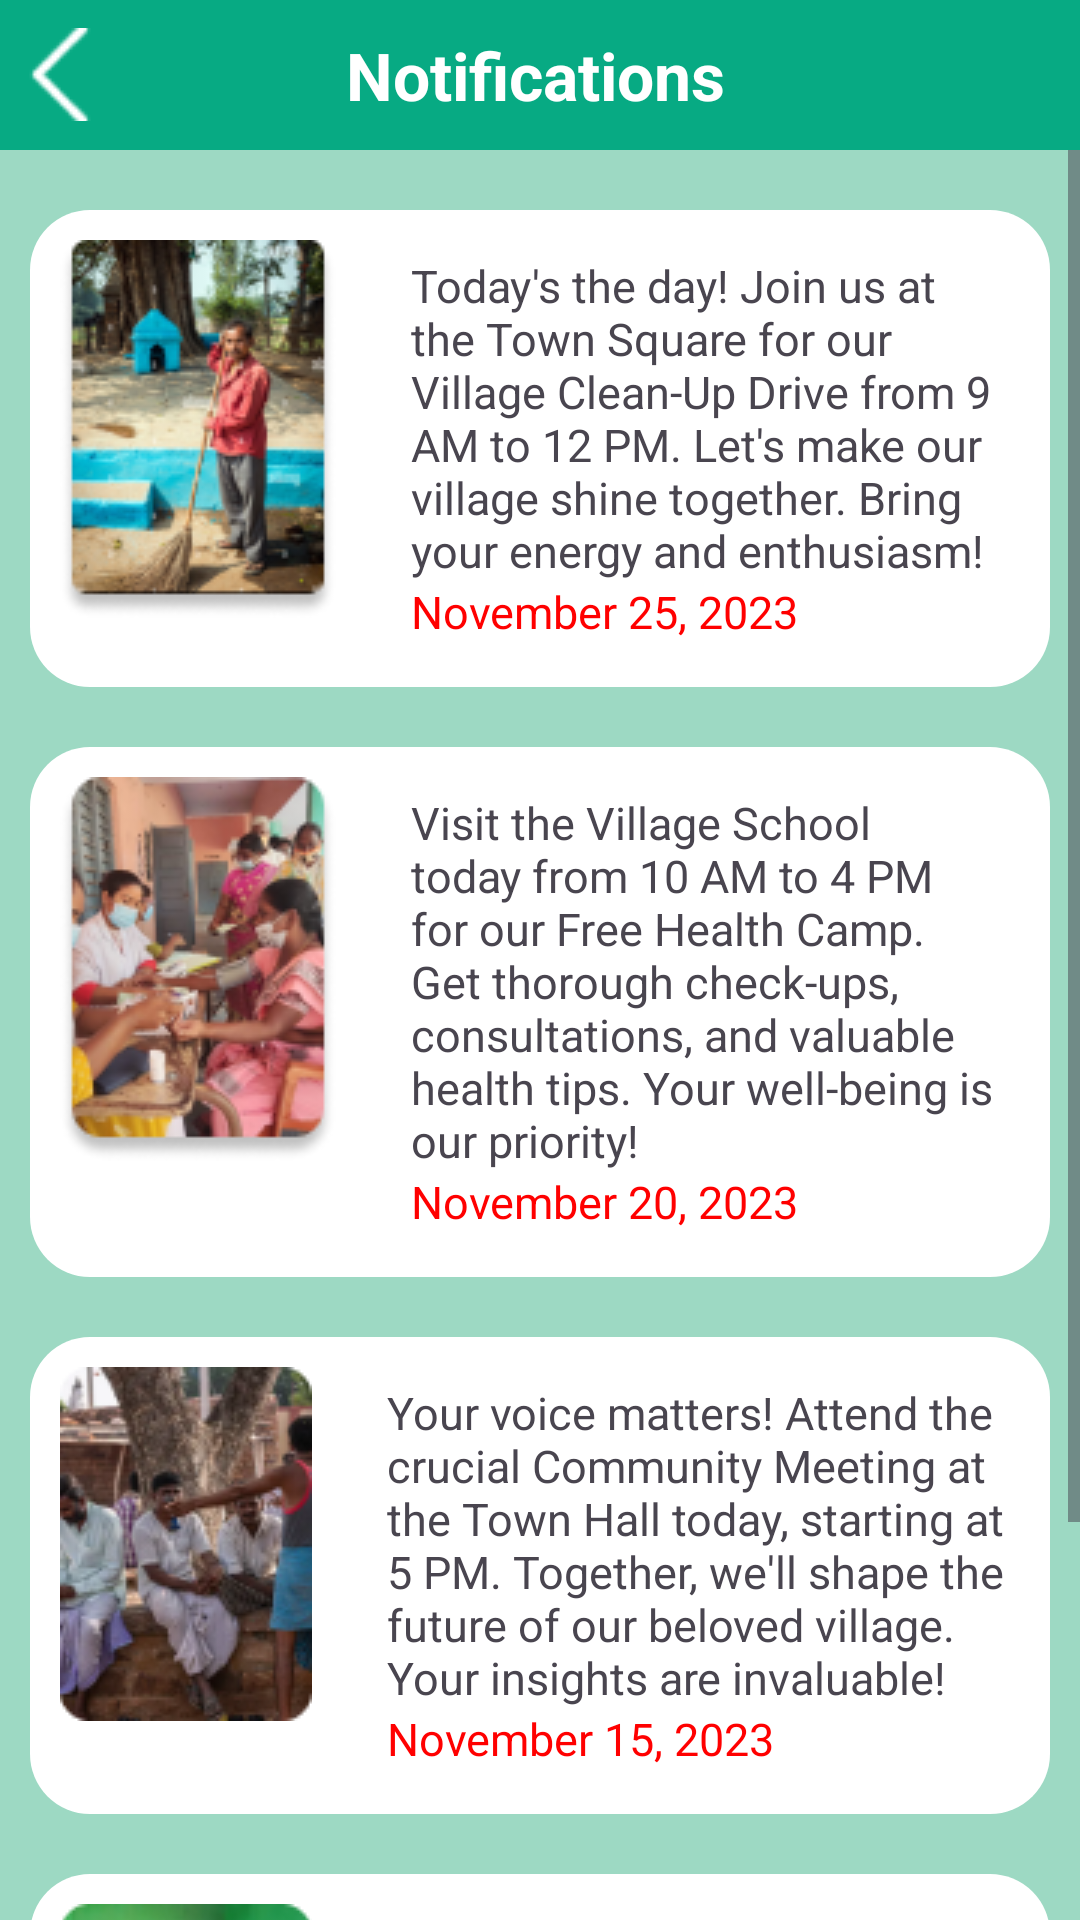

Where icons sit on this 1080 x 1920 app screen, as BBox(x1, y1, x2, y2):
leftarrow: BBox(31, 28, 89, 121)
